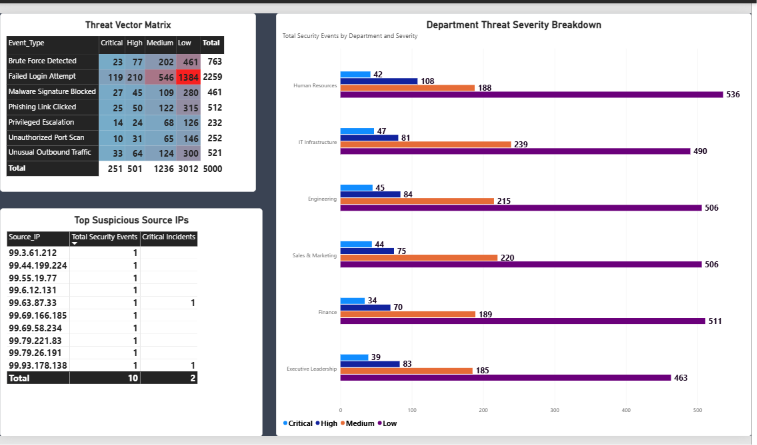

What the dashboard file says about the page in this screenshot:
{"tool":"powerbi","page":{"name":"Security Event & Threat Pattern Analysis","canvas":[1920,1080],"ordinal":1},"visuals":[{"type":"pivotTable","title":"Threat Vector Matrix","fields":{"Rows":["enterprise_security_logs.Event_Type"],"Columns":["enterprise_security_logs.Severity"],"Values":["enterprise_security_logs.Total Security Events"]},"box":[0,0,653.9,456.2],"z":0},{"type":"tableEx","title":"Top Suspicious Source IPs","fields":{"Values":["enterprise_security_logs.Source_IP","enterprise_security_logs.Total Security Events","enterprise_security_logs.Critical Incidents"]},"box":[0,497.7,670.9,583.1],"z":1000},{"type":"clusteredBarChart","title":"Department Threat Severity Breakdown","fields":{"Category":["enterprise_security_logs.Department"],"Y":["enterprise_security_logs.Total Security Events"],"Series":["enterprise_security_logs.Severity"]},"box":[705.1,0,1215,1080.8],"z":2000}]}

Visuals, with their boxes on the page's 1920x1080 design canvas (x1, y1, x2, y2). These are canvas units, not pixel positions in the 757x445 screenshot, which may show the page scaled, cropped or inside an application window:
"Threat Vector Matrix" pivotTable: {"left": 0, "top": 0, "right": 654, "bottom": 456}
"Top Suspicious Source IPs" tableEx: {"left": 0, "top": 498, "right": 671, "bottom": 1081}
"Department Threat Severity Breakdown" clusteredBarChart: {"left": 705, "top": 0, "right": 1920, "bottom": 1081}
